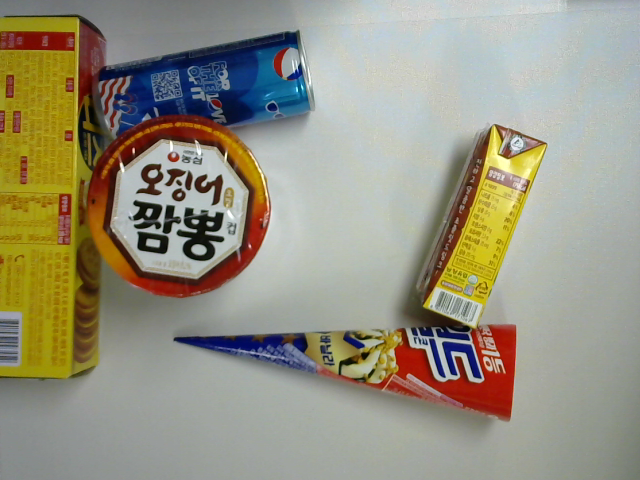Choco_E_Mong: (409, 114, 553, 339)
Ojjam: (84, 113, 275, 302)
Pepsi_Cola_Can_250ml: (95, 22, 328, 144)
Ritz_Remon_96g: (1, 6, 109, 387)
World_Cone_Banila: (167, 318, 531, 430)
